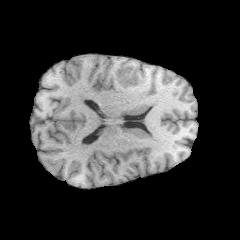glioma: (113, 65, 145, 88)
